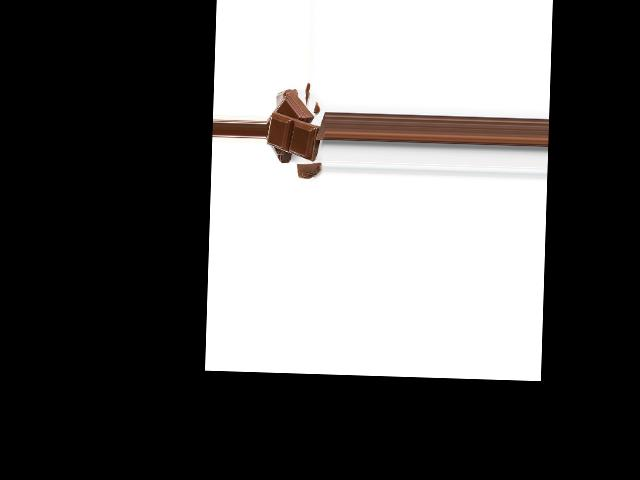chocolate: (268, 111, 319, 159)
